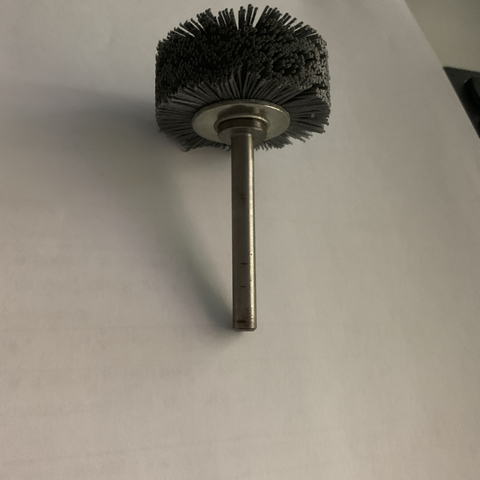Wheel Brush: (133, 1, 383, 361), (159, 16, 346, 331), (153, 6, 333, 330), (149, 31, 351, 261)
